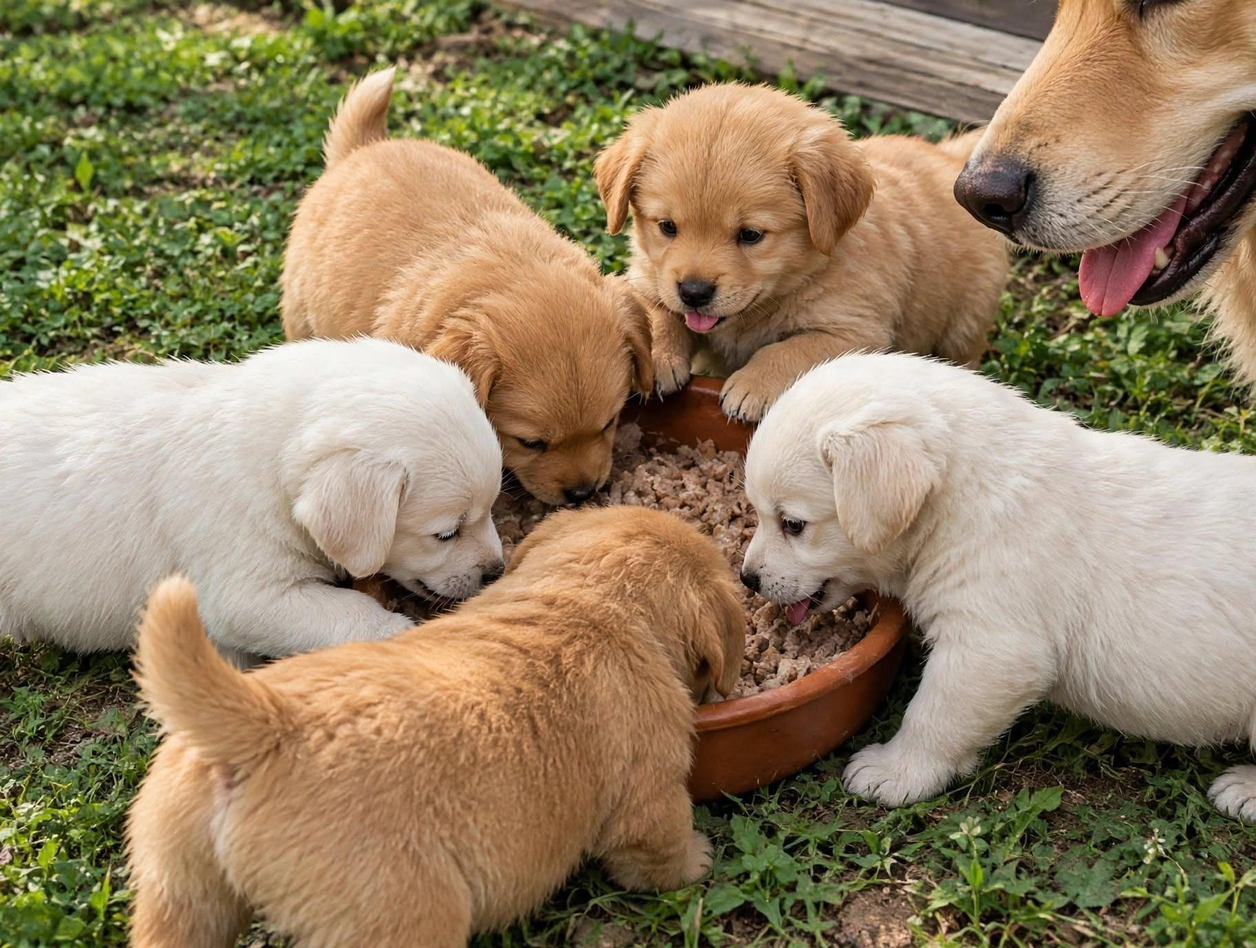adult_dog: (954, 0, 1256, 387)
puppy-dog: (120, 502, 748, 948), (739, 351, 1256, 832), (275, 59, 654, 508), (1, 335, 508, 666), (592, 80, 1014, 425)
